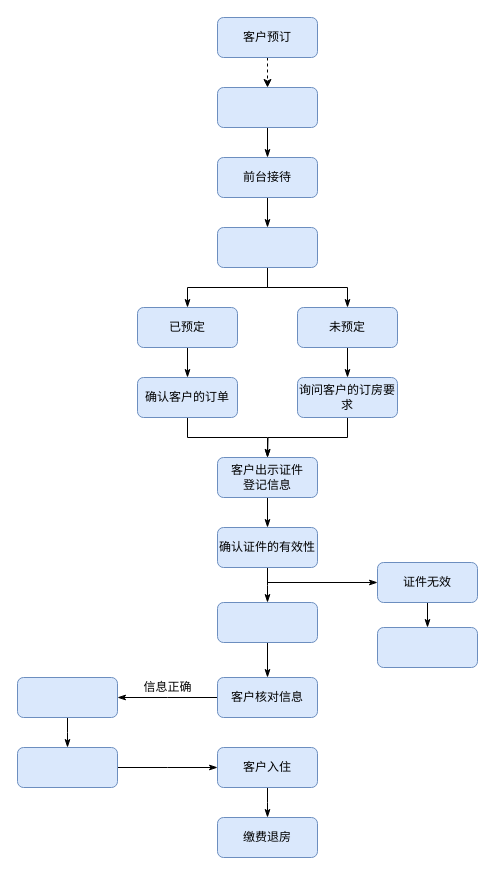
The diagram is 495 pixels wide and 875 high, and some of its shapes have lost their labels. The centre of each missing label's shape, as x and y in pixels:
"客户来到酒店" belongs at point (267, 107).
"引导客户进房" belongs at point (67, 767).
"确认客户入住时间" belongs at point (67, 697).
"禁止入住" belongs at point (427, 647).
"证件有效" belongs at point (267, 622).
"询问客户是否预定" belongs at point (267, 247).
